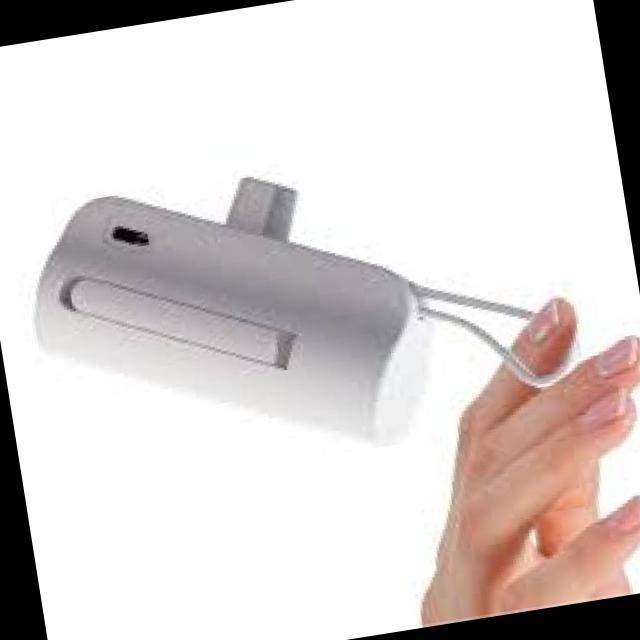portable-charger: (9, 146, 453, 503)
